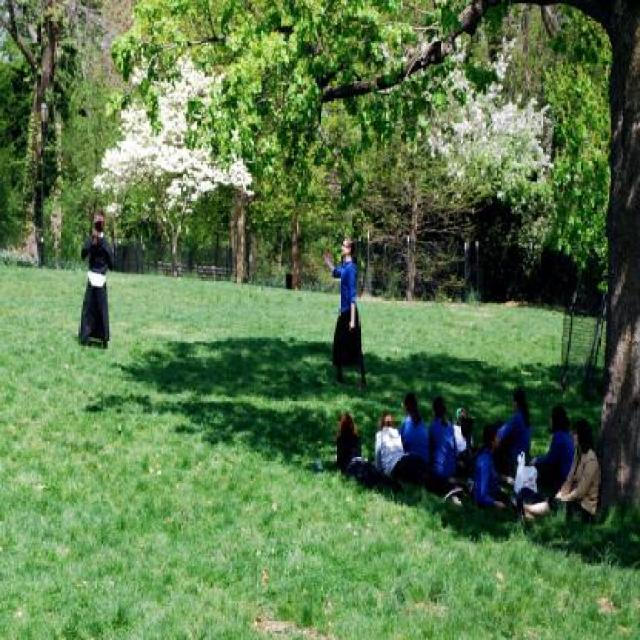Person: (373, 392, 604, 528), (335, 241, 371, 387), (78, 210, 113, 352)
